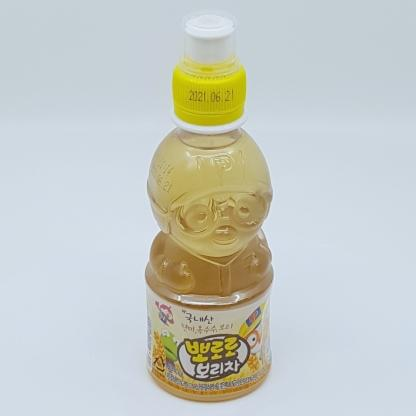--------220ML: (144, 8, 274, 403)
